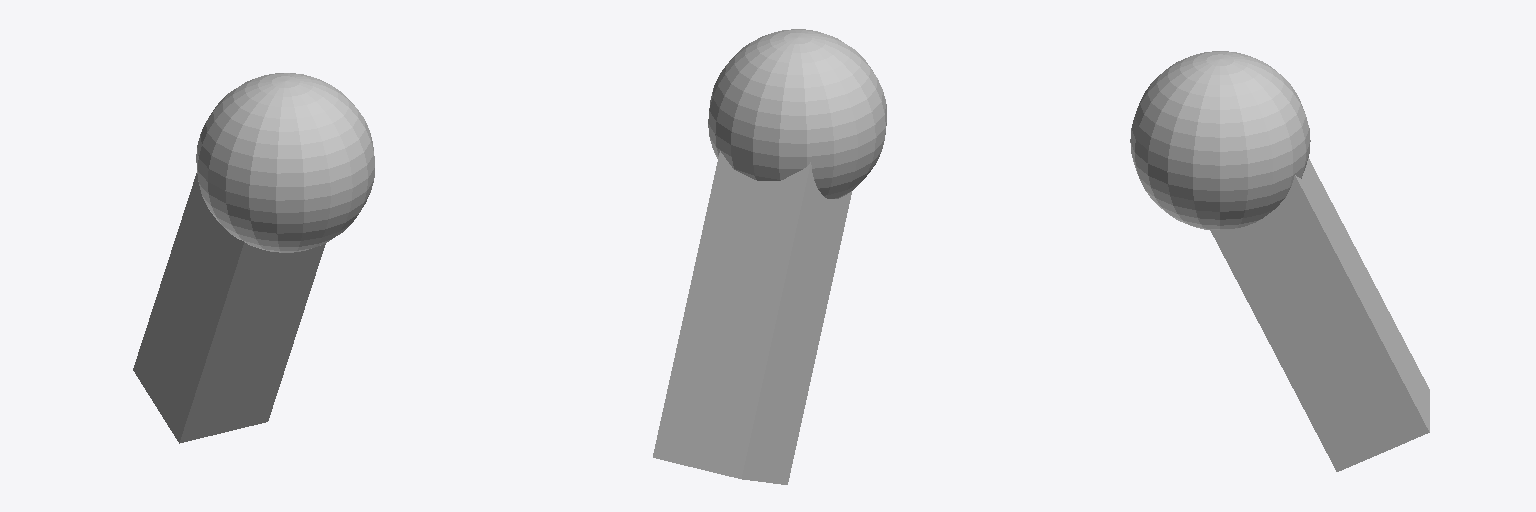
Rendered from rightarm.obj.
The picture shows the model from 3 angles: view 1: azimuth 30°, elevation 25°; view 2: azimuth 150°, elevation 25°; view 3: azimuth 270°, elevation 25°; orthographic projection.
Visible parts, largest first — view 1: pCube11, pSphere2; view 2: pCube11, pSphere2; view 3: pCube11, pSphere2.
Boxes of the visible parts, x1=… form: pCube11: x1=133, y1=173, x2=325, y2=443; pSphere2: x1=196, y1=73, x2=374, y2=252; pCube11: x1=653, y1=151, x2=851, y2=484; pSphere2: x1=708, y1=29, x2=886, y2=198; pCube11: x1=1210, y1=158, x2=1429, y2=471; pSphere2: x1=1130, y1=51, x2=1310, y2=229.
Bounding box in the file's own units: 1.34 × 3.22 × 2.22.